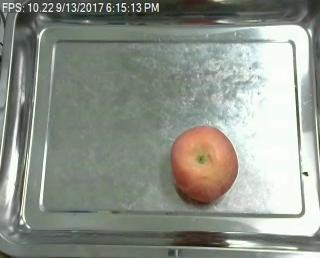apple: (170, 126, 240, 203)
